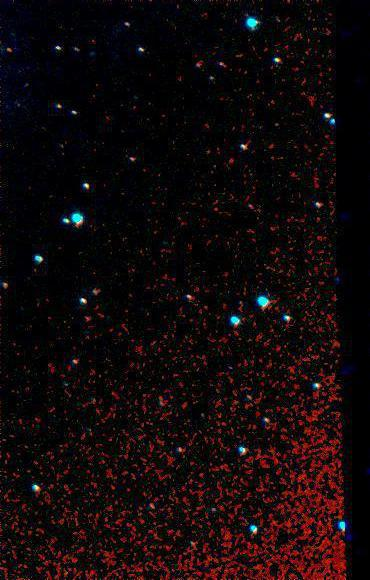star: (0, 33, 27, 63)
